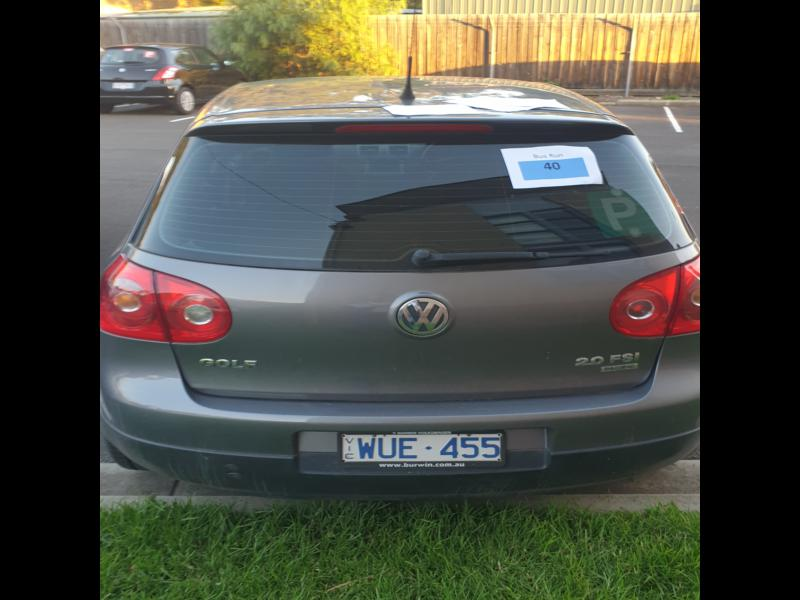BusRun: (518, 156, 590, 179)
PlateNo: (339, 431, 504, 465)
